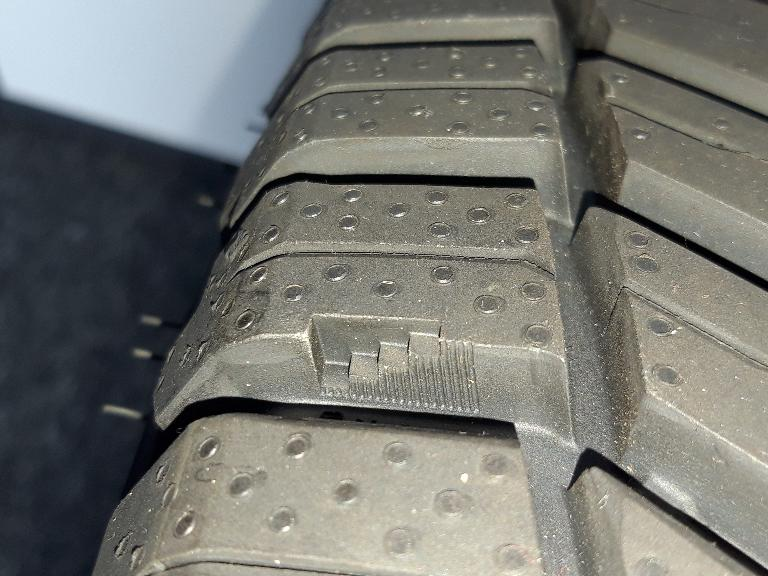temoin:100: (294, 306, 488, 423)
